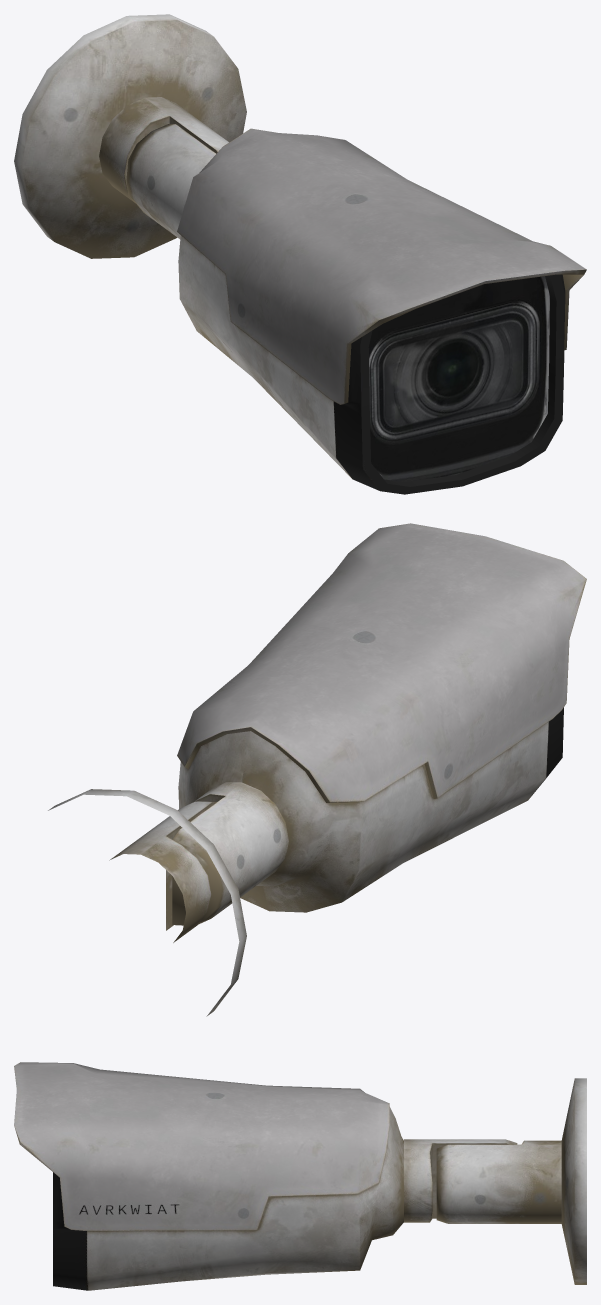
File: security_camera.glb
3 views of the same model, one above another, from view 1: azimuth 30°, elevation 25°; view 2: azimuth 150°, elevation 25°; view 3: azimuth 270°, elevation 25° (orthographic). The views are drawn at different scales.
Visible parts, largest first — view 1: camera, handler; view 2: camera, handler; view 3: camera, handler.
Boxes of the visible parts, <box> form: camera: <box>126,124,586,494</box>; handler: <box>14,14,246,258</box>; camera: <box>172,523,586,925</box>; handler: <box>48,789,246,1016</box>; camera: <box>14,1062,517,1290</box>; handler: <box>436,1078,586,1284</box>.
Bounding box in the file's own units: 0.2194 × 0.2155 × 0.5974.
Materials: 1 (1 with a texture image).
